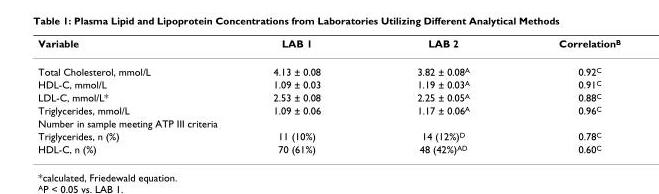table: (37, 36, 620, 154)
table column: (37, 36, 244, 154), (368, 36, 513, 154), (244, 36, 368, 154), (513, 36, 620, 154)
table column header: (37, 36, 620, 57)
table projected row header: (37, 116, 620, 129)
table row: (37, 36, 620, 57), (37, 57, 620, 77), (37, 77, 620, 90), (37, 90, 620, 103), (37, 103, 620, 116), (37, 116, 620, 129), (37, 129, 620, 142), (37, 142, 620, 154)
